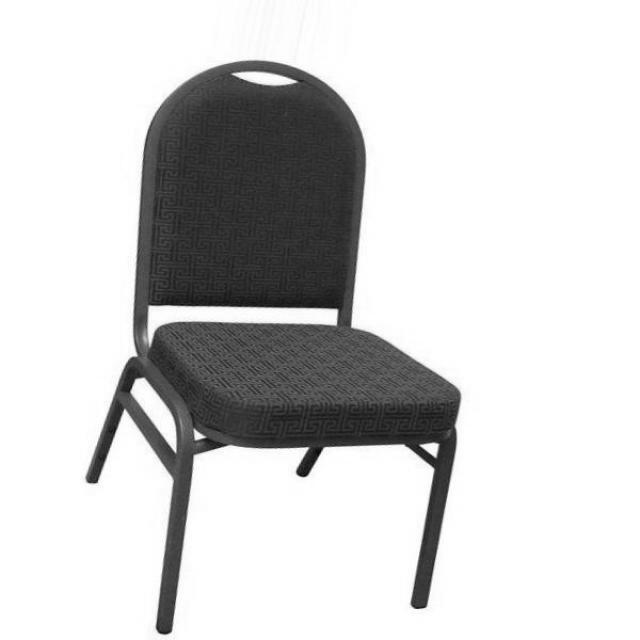chair: (86, 57, 464, 640)
